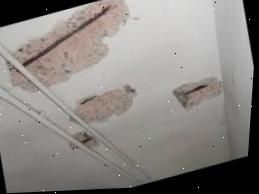exposed_rebar: (22, 5, 110, 66), (188, 84, 207, 92)
spalling: (15, 0, 128, 86), (74, 84, 136, 123), (172, 76, 221, 107), (11, 69, 35, 91), (72, 131, 97, 148), (68, 142, 77, 150)
